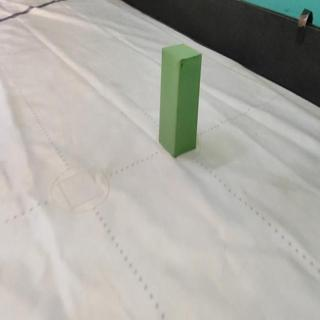greenbox: (159, 43, 201, 157)
